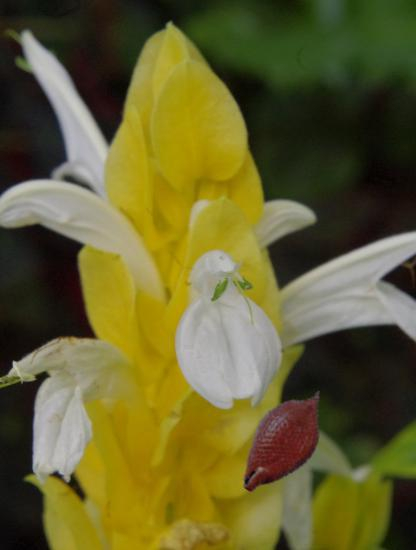Salak: (223, 380, 345, 502)
